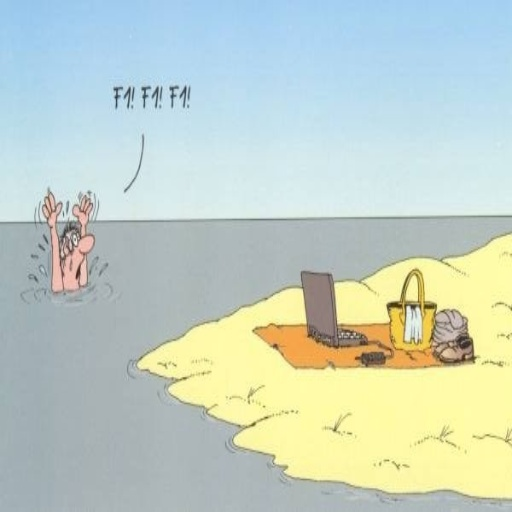hand: (34, 183, 57, 244), (71, 187, 92, 225)
